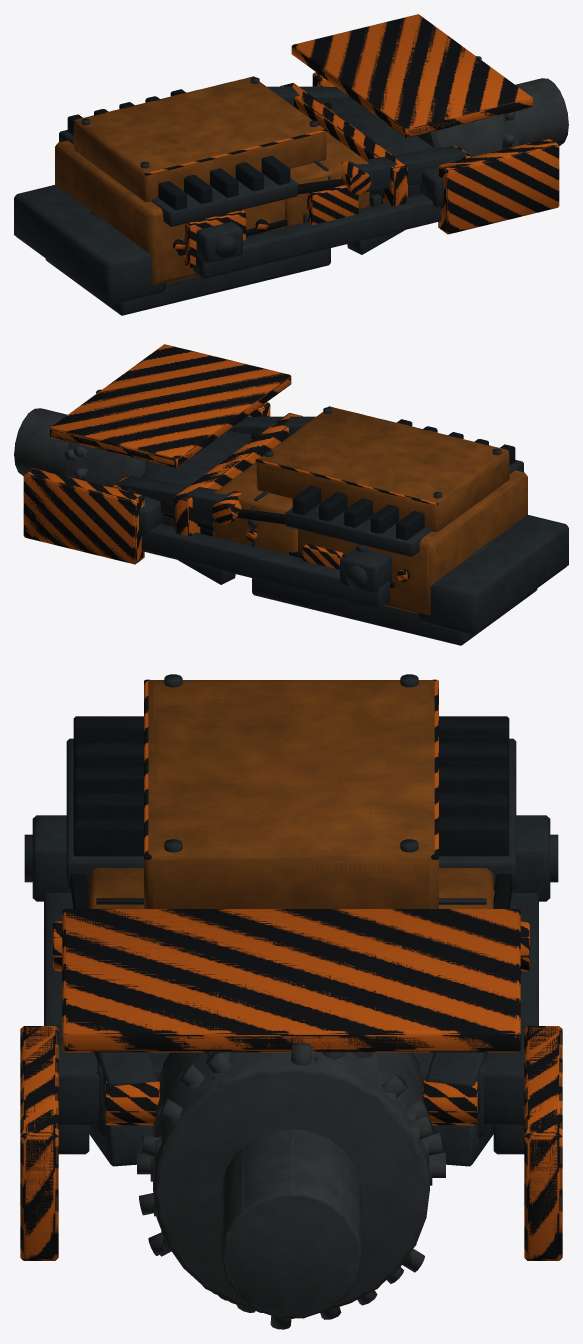
Rendered from place_mining_drone.glb.
3 views of the same model, one above another, from view 1: azimuth 30°, elevation 25°; view 2: azimuth 150°, elevation 25°; view 3: azimuth 270°, elevation 25° (orthographic). The views are drawn at different scales.
Visible parts, largest first — view 1: LOD0_Drone_Material_Hull, LOD2_Drone_Material_Safety, LOD0_Drone_Material_Mechanical, LOD0_Drone_Material_Safety, LOD1_Drone_Material_Mechanical, LOD2_Drone_Material_Mechanical, LOD1_Drone_Material_Safety, LOD1_Drone_Material_Hull, LOD2_Drone_Material_Hull, LOD0_Drone_Material_Tool, LOD0_Drone_Material_Radiator, LOD1_Drone_Material_Radiator (+3 smaller); view 2: LOD0_Drone_Material_Safety, LOD1_Drone_Material_Hull, LOD0_Drone_Material_Mechanical, LOD1_Drone_Material_Mechanical, LOD2_Drone_Material_Hull, LOD1_Drone_Material_Safety, LOD0_Drone_Material_Hull, LOD2_Drone_Material_Safety, LOD2_Drone_Material_Mechanical, LOD0_Drone_Material_Tool, LOD0_Drone_Material_Radiator, LOD1_Drone_Material_Radiator (+3 smaller); view 3: LOD0_Drone_Material_Safety, LOD0_Drone_Material_Tool, LOD2_Drone_Material_Hull, LOD2_Drone_Material_Safety, LOD0_Drone_Material_Hull, LOD1_Drone_Material_Safety, LOD1_Drone_Material_Tool, LOD2_Drone_Material_Mechanical, LOD2_Drone_Material_Tool, LOD1_Drone_Material_Hull, LOD0_Drone_Material_Mechanical, LOD1_Drone_Material_Mechanical (+5 smaller).
Part boxes in pixels (x1=…): LOD0_Drone_Material_Hull: x1=57, y1=79, x2=364, y2=279; LOD2_Drone_Material_Safety: x1=280, y1=14, x2=559, y2=234; LOD0_Drone_Material_Mechanical: x1=16, y1=77, x2=443, y2=310; LOD0_Drone_Material_Safety: x1=72, y1=15, x2=552, y2=265; LOD1_Drone_Material_Mechanical: x1=15, y1=86, x2=466, y2=314; LOD2_Drone_Material_Mechanical: x1=14, y1=86, x2=467, y2=315; LOD1_Drone_Material_Safety: x1=184, y1=14, x2=559, y2=267; LOD1_Drone_Material_Hull: x1=56, y1=78, x2=369, y2=283; LOD2_Drone_Material_Hull: x1=55, y1=77, x2=369, y2=285; LOD0_Drone_Material_Tool: x1=437, y1=56, x2=568, y2=156; LOD0_Drone_Material_Radiator: x1=68, y1=90, x2=287, y2=209; LOD1_Drone_Material_Radiator: x1=68, y1=90, x2=289, y2=209; LOD0_Drone_Material_Safety: x1=26, y1=345, x2=510, y2=581; LOD1_Drone_Material_Hull: x1=213, y1=414, x2=525, y2=613; LOD0_Drone_Material_Mechanical: x1=128, y1=407, x2=559, y2=640; LOD1_Drone_Material_Mechanical: x1=116, y1=416, x2=567, y2=644; LOD2_Drone_Material_Hull: x1=213, y1=407, x2=527, y2=615; LOD1_Drone_Material_Safety: x1=23, y1=344, x2=300, y2=563; LOD0_Drone_Material_Hull: x1=218, y1=435, x2=507, y2=609; LOD2_Drone_Material_Safety: x1=23, y1=344, x2=302, y2=564; LOD2_Drone_Material_Mechanical: x1=115, y1=416, x2=568, y2=645; LOD0_Drone_Material_Tool: x1=14, y1=389, x2=145, y2=486; LOD0_Drone_Material_Radiator: x1=294, y1=420, x2=514, y2=539; LOD1_Drone_Material_Radiator: x1=293, y1=422, x2=514, y2=539; LOD0_Drone_Material_Safety: x1=28, y1=679, x2=554, y2=1255; LOD0_Drone_Material_Tool: x1=137, y1=1043, x2=445, y2=1329; LOD2_Drone_Material_Hull: x1=89, y1=680, x2=493, y2=908; LOD2_Drone_Material_Safety: x1=20, y1=909, x2=562, y2=1260; LOD0_Drone_Material_Hull: x1=157, y1=683, x2=425, y2=888; LOD1_Drone_Material_Safety: x1=21, y1=909, x2=561, y2=1260; LOD1_Drone_Material_Tool: x1=137, y1=1052, x2=445, y2=1318; LOD2_Drone_Material_Mechanical: x1=32, y1=738, x2=550, y2=1166; LOD2_Drone_Material_Tool: x1=140, y1=1052, x2=445, y2=1319; LOD1_Drone_Material_Hull: x1=92, y1=681, x2=490, y2=908; LOD0_Drone_Material_Mechanical: x1=24, y1=674, x2=558, y2=1161; LOD1_Drone_Material_Mechanical: x1=24, y1=739, x2=558, y2=1165.
Bounding box in the file's own units: 5 × 1.42 × 2.39.
Materials: 7 (7 with a texture image).
